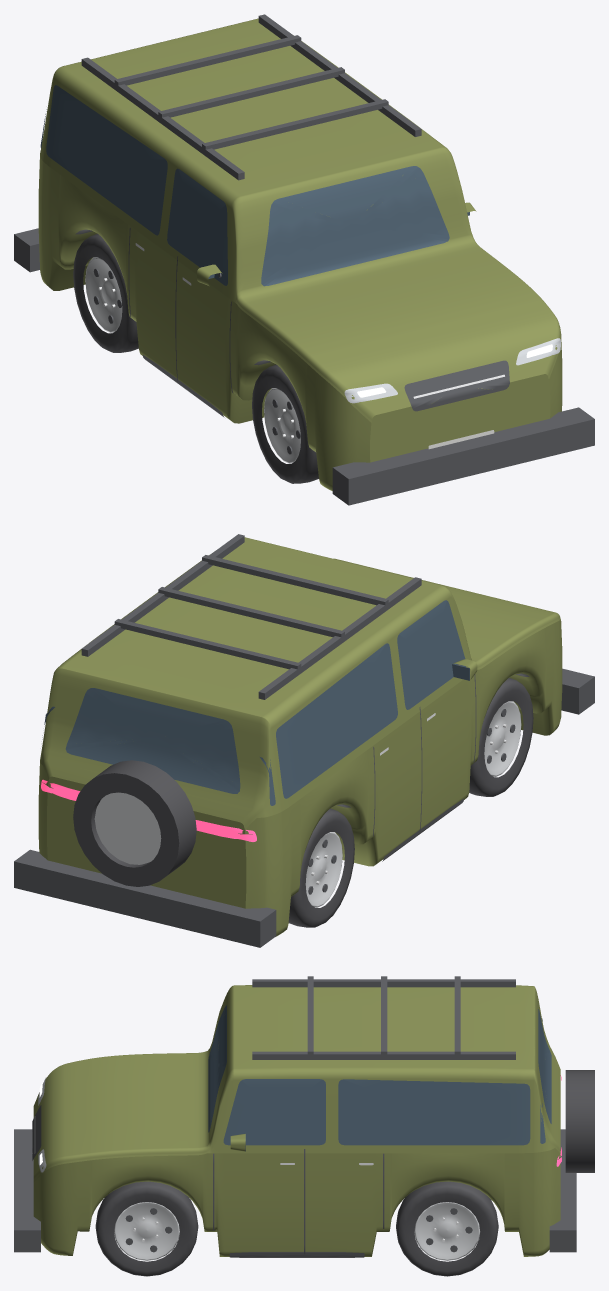
Rendered from car-offroader.glb.
3 renders of one model, top to bottom at view 1: azimuth 30°, elevation 25°; view 2: azimuth 150°, elevation 25°; view 3: azimuth 270°, elevation 25°, orthographic. The views are drawn at different scales.
Visible parts, largest first — view 1: car-offroader; view 2: car-offroader; view 3: car-offroader.
Boxes of the visible parts, x1,y1,x2,y2 form: car-offroader: (14,14,594,505); car-offroader: (14,534,594,947); car-offroader: (14,976,594,1276).
Bounding box in the file's own units: 2.17 × 1.97 × 4.74.
